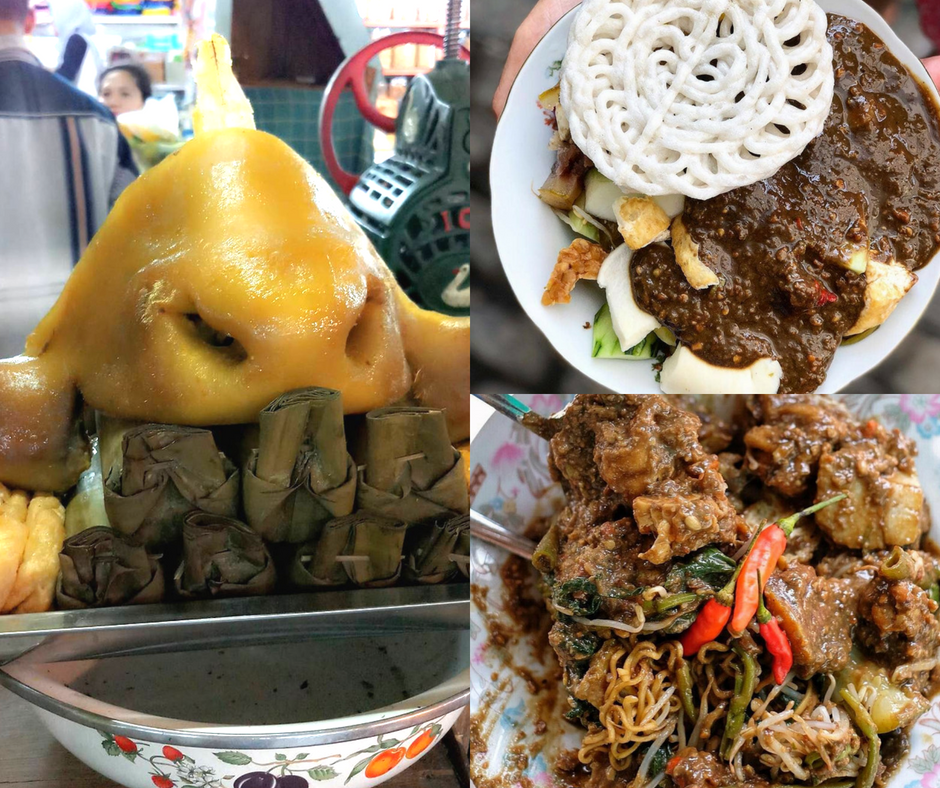rujak_cingur: (537, 2, 940, 394)
